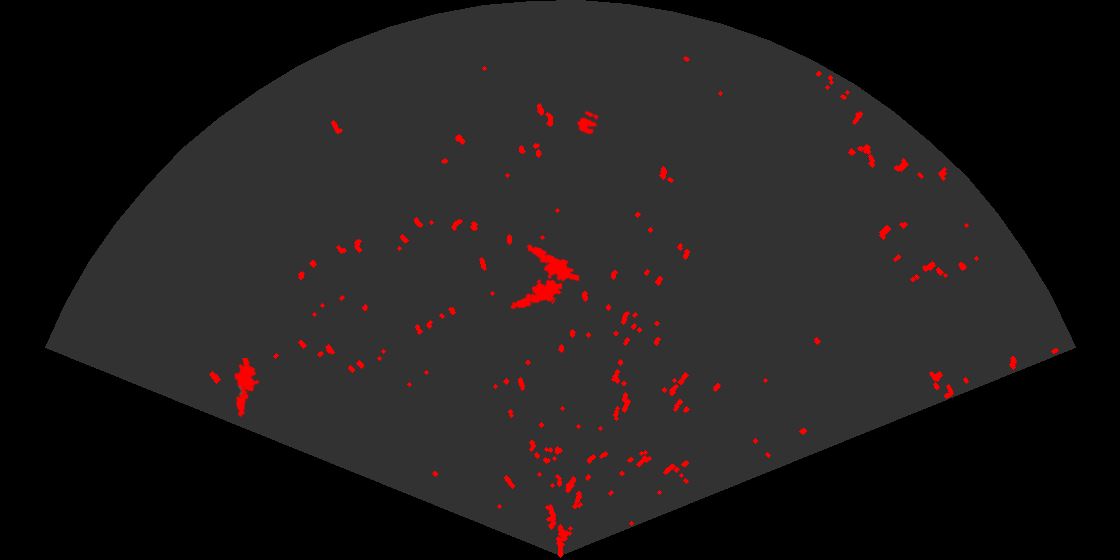ball: (575, 109, 601, 136)
frogman: (524, 243, 579, 283), (508, 277, 562, 311), (233, 358, 261, 419)
